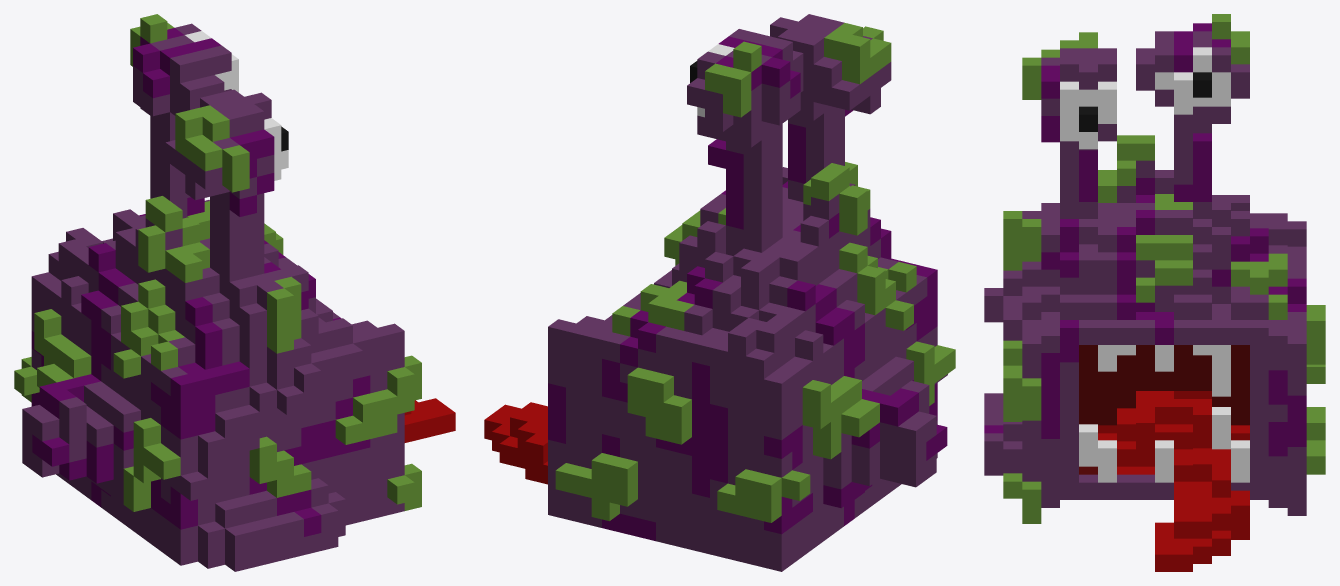
File: alien head.obj
The picture shows the model from 3 angles, left to right: view 1: azimuth 30°, elevation 25°; view 2: azimuth 150°, elevation 25°; view 3: azimuth 270°, elevation 25°; orthographic projection. The views are drawn at different scales.
Size of the model in its own units: 2.4 by 2.5 by 1.8.
1 material, 1 textured.
